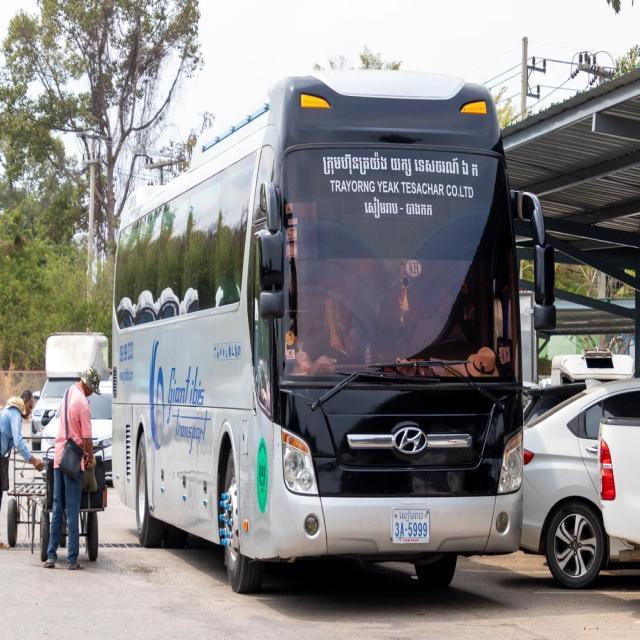Siem_Reap: (399, 510, 424, 523)
